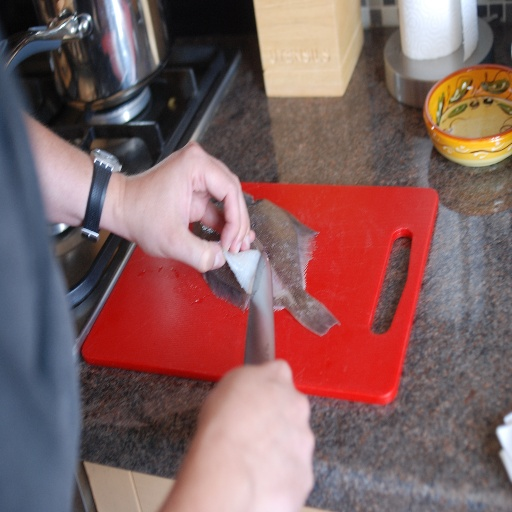hand: (169, 357, 317, 511), (121, 140, 256, 264)
